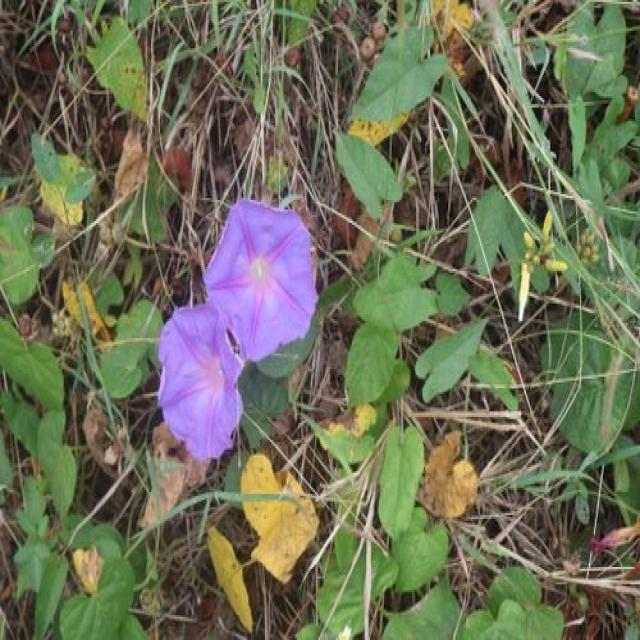ipomoea: (152, 192, 322, 465), (200, 194, 321, 367), (154, 300, 247, 467)
